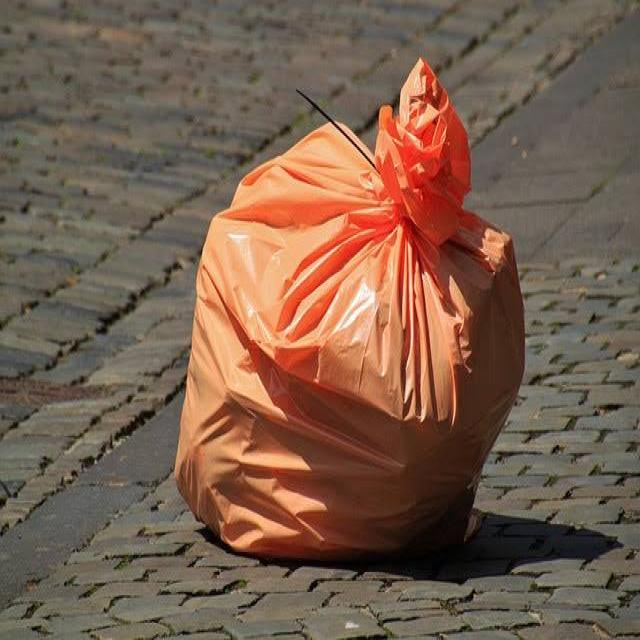plastic bag: (134, 42, 532, 563)
